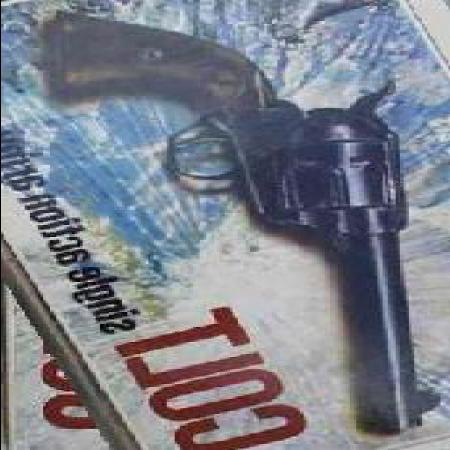Pistol: (42, 11, 444, 434)
